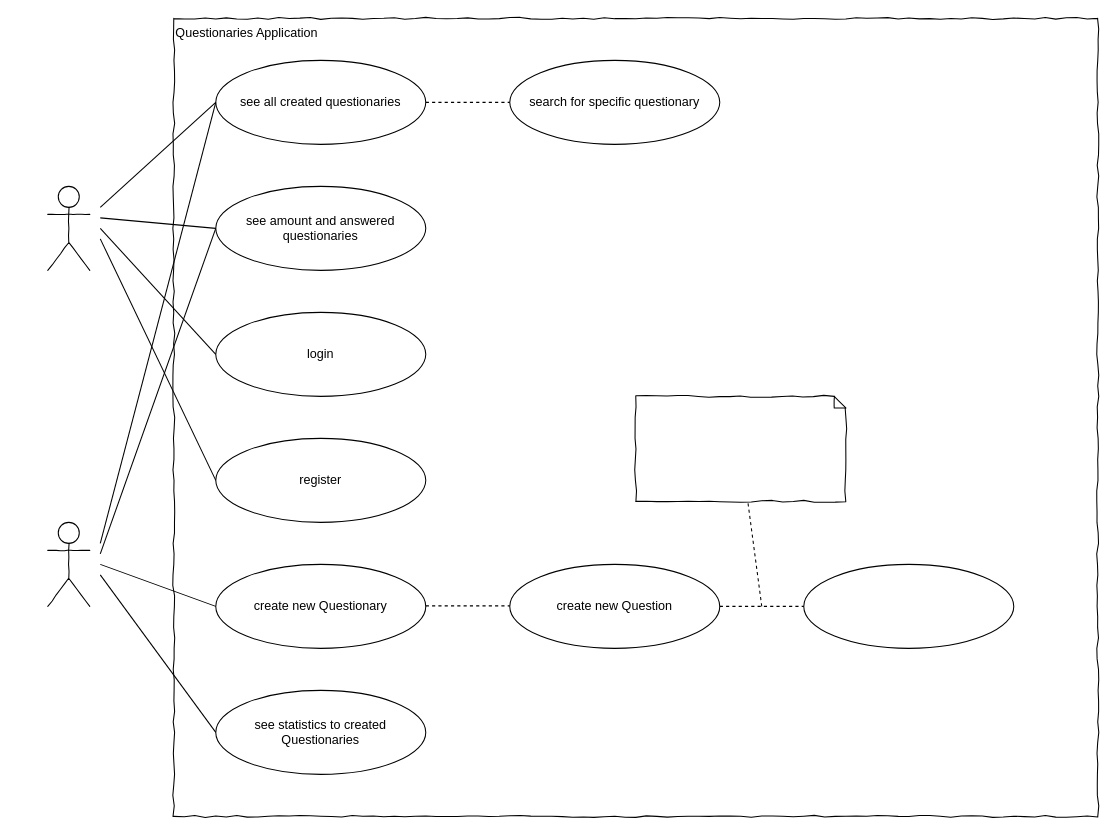
Some shapes in this 1116 by 835 pixel diagram are drawn without their labels. Each missing label, with the centre of its shape:
create Answers for Question: the point at 908,605
if QuestionType selected is CustomQuestion: the point at 740,448
Registered User: the point at 68,563
Unregistered User: the point at 68,227
